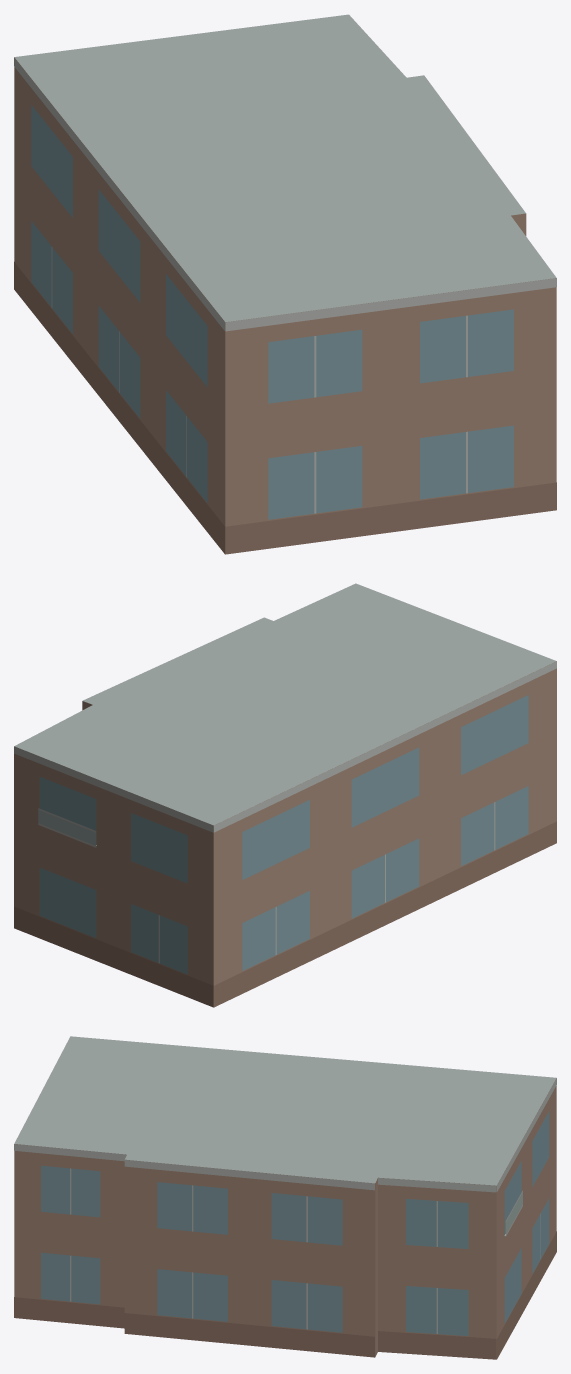
The model's file is survey-upis-32617465.glb.
3 renders of one model, top to bottom at view 1: azimuth 30°, elevation 25°; view 2: azimuth 150°, elevation 25°; view 3: azimuth 270°, elevation 25°, orthographic. The views are drawn at different scales.
Visible parts, largest first — view 1: survey-upis-32617465.tmp; view 2: survey-upis-32617465.tmp; view 3: survey-upis-32617465.tmp.
Boxes of the visible parts, <box> form: survey-upis-32617465.tmp: <box>14,14,556,554</box>; survey-upis-32617465.tmp: <box>14,583,556,1007</box>; survey-upis-32617465.tmp: <box>14,1036,556,1359</box>.
Size of the model in its own units: 11.23 by 6.1 by 17.24.
